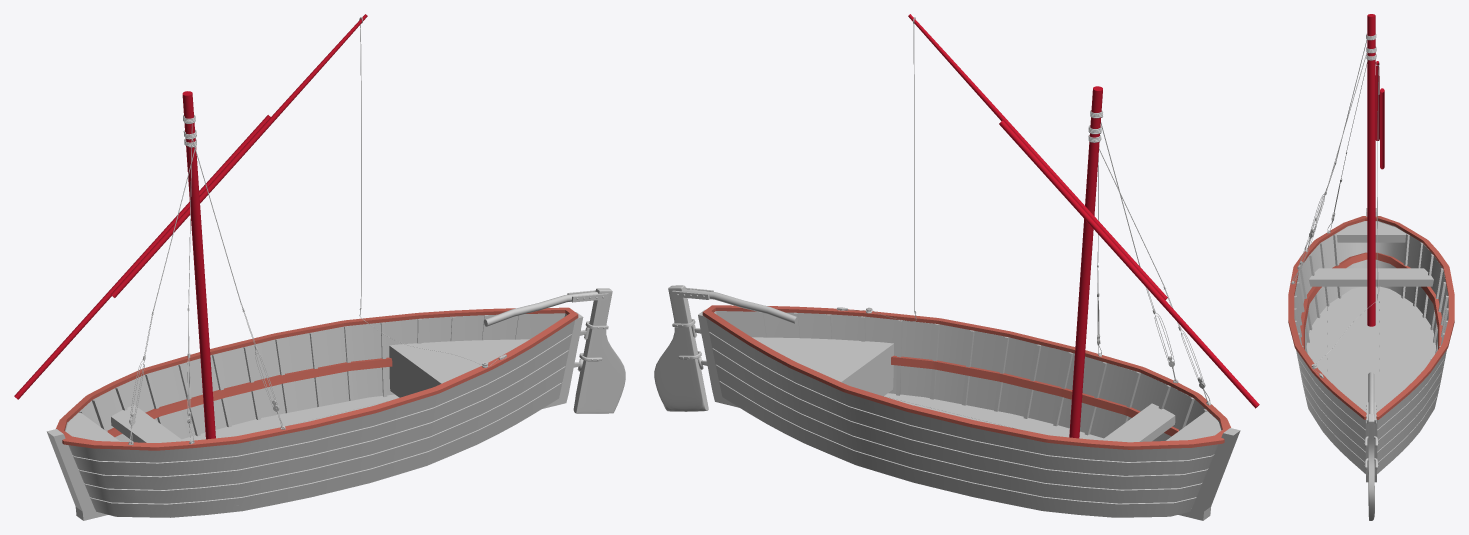
The model's file is boat.fbx.
The picture shows the model from 3 angles, left to right: view 1: azimuth 30°, elevation 25°; view 2: azimuth 150°, elevation 25°; view 3: azimuth 270°, elevation 25°; orthographic projection. The views are drawn at different scales.
Parts seen in each view (by area): view 1: hull, hull top plank, big seat, rudder, mast, hull planks, hull bottom plank, round inner plank, Cube.007, front boom, back boom, small seat (+2 smaller); view 2: hull, hull top plank, big seat, rudder, hull planks, mast, hull bottom plank, round inner plank, back boom, Cube.007, front boom, small seat (+2 smaller); view 3: hull, hull top plank, Cube.009, Cube.008, mast, hull planks, small seat, Cube.007, big seat, Cube.010, round inner plank, lantern holder seat (+8 smaller).
Boxes of the visible parts, box(x1,y1,x2,y2) form: hull: box(65, 313, 574, 517); hull top plank: box(56, 307, 578, 450); big seat: box(389, 339, 529, 397); rudder: box(573, 288, 625, 413); mast: box(182, 91, 215, 439); hull planks: box(79, 314, 522, 436); hull bottom plank: box(46, 312, 583, 520); round inner plank: box(107, 357, 392, 437); Cube.007: box(182, 394, 399, 505); front boom: box(111, 14, 367, 297); back boom: box(14, 115, 270, 399); small seat: box(111, 405, 183, 442); hull: box(706, 311, 1221, 517); hull top plank: box(702, 305, 1230, 449); big seat: box(752, 337, 893, 396); rudder: box(654, 285, 708, 411); hull planks: box(759, 312, 1207, 435); mast: box(1069, 86, 1102, 438); hull bottom plank: box(698, 309, 1240, 520); round inner plank: box(891, 355, 1178, 436); back boom: box(999, 120, 1259, 408); Cube.007: box(884, 393, 1103, 440); front boom: box(908, 14, 1167, 299); small seat: box(1102, 403, 1175, 442); hull: box(1294, 221, 1448, 473); hull top plank: box(1288, 216, 1454, 419); Cube.009: box(1345, 286, 1396, 378); Cube.008: box(1328, 293, 1413, 378); mast: box(1367, 14, 1375, 326); hull planks: box(1294, 234, 1448, 381); small seat: box(1309, 268, 1433, 286); Cube.007: box(1306, 306, 1435, 378); big seat: box(1327, 378, 1415, 411); Cube.010: box(1362, 286, 1379, 378); round inner plank: box(1300, 252, 1442, 349); lantern holder seat: box(1336, 221, 1406, 242).
Bounding box in the file's own units: 677 × 488 × 202.
